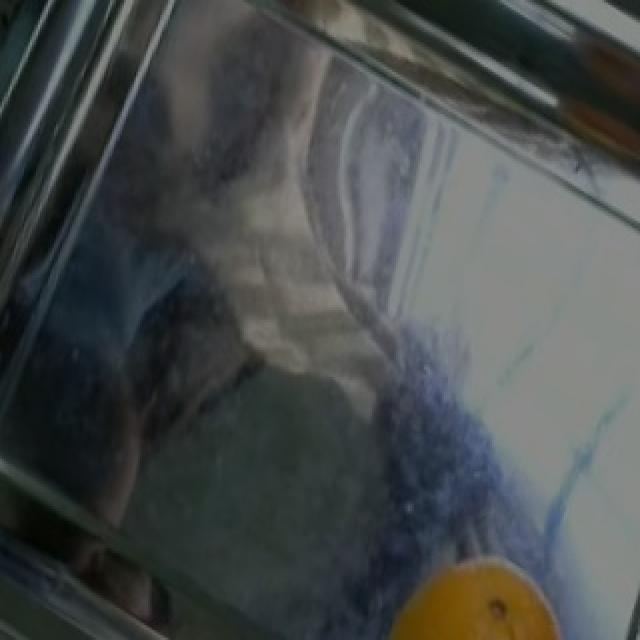Fruit: (372, 545, 572, 640)
